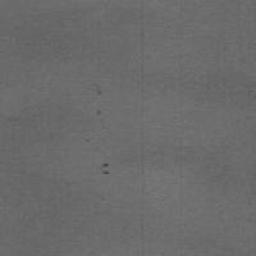Inclusion: (100, 161, 111, 177), (95, 83, 105, 97), (95, 108, 104, 116)
